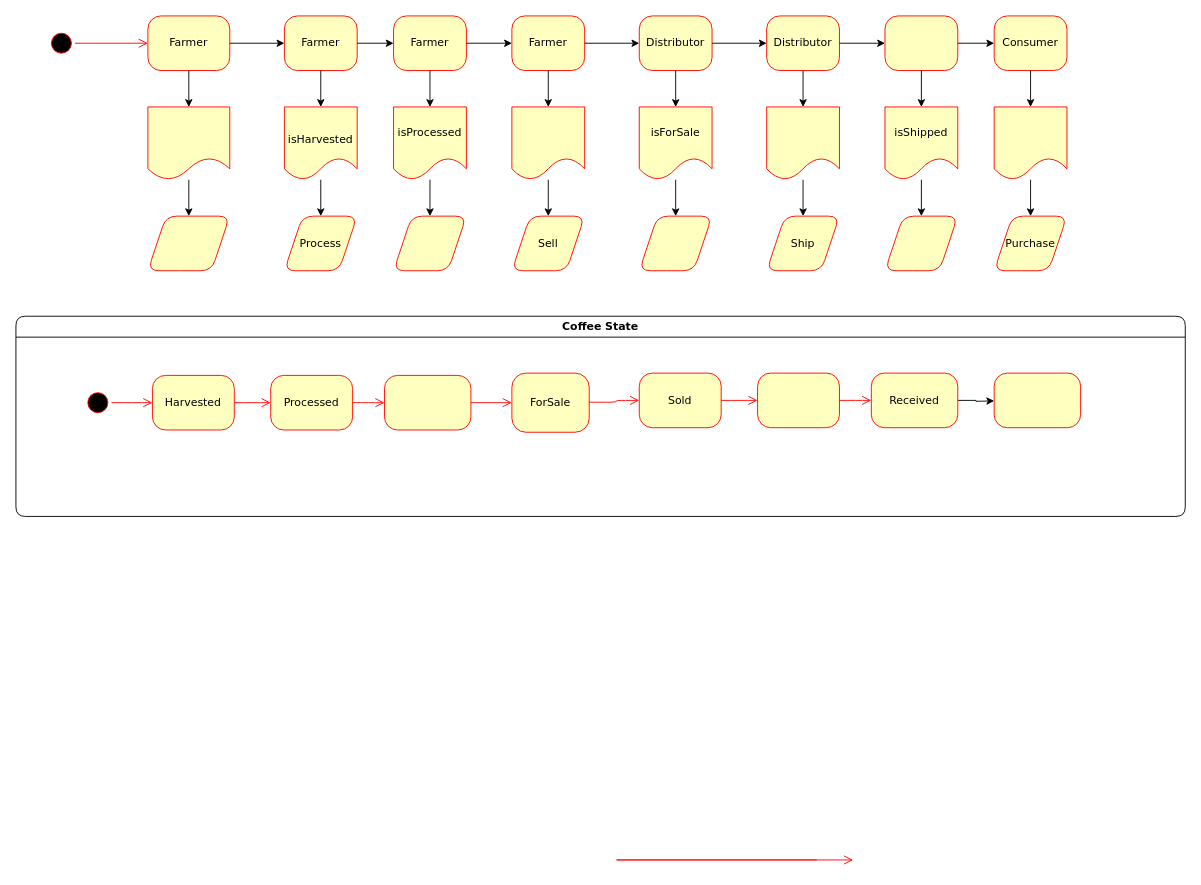
The diagram is 1201 pixels wide and 885 high, and some of its shapes have lost their labels. The shapes that lost their labels are listed below. From the top down, each one's centre as x and y in pixels, then its label:
point 921,43: Retailer
point 548,143: isPacked
point 802,143: isSold
point 1030,143: IsReceived
point 188,243: Harvest
point 429,243: Pack
point 675,243: Buy
point 921,243: Receive
point 427,402: Packed
point 798,400: Shipped
point 1037,400: Purchased
